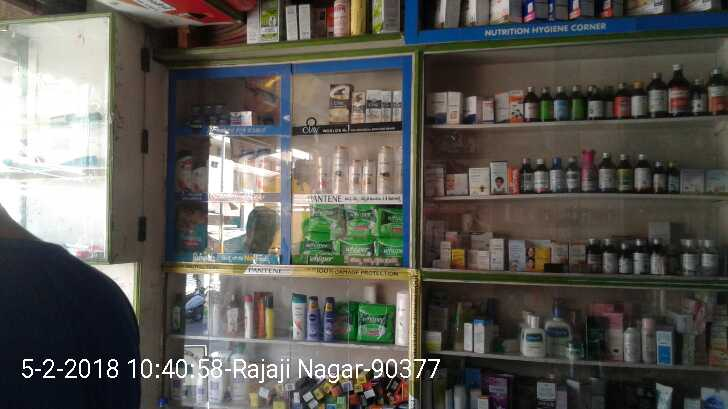beauty: (324, 83, 350, 125), (377, 142, 396, 197), (331, 146, 349, 196), (176, 149, 194, 192), (257, 152, 274, 195), (381, 87, 400, 119), (315, 152, 329, 191), (367, 87, 381, 122), (363, 155, 376, 191), (352, 90, 367, 121), (349, 156, 361, 190)
pharmacy: (303, 203, 346, 236), (346, 200, 380, 236), (298, 234, 341, 261), (377, 204, 405, 238), (340, 239, 371, 260), (380, 240, 404, 260)
